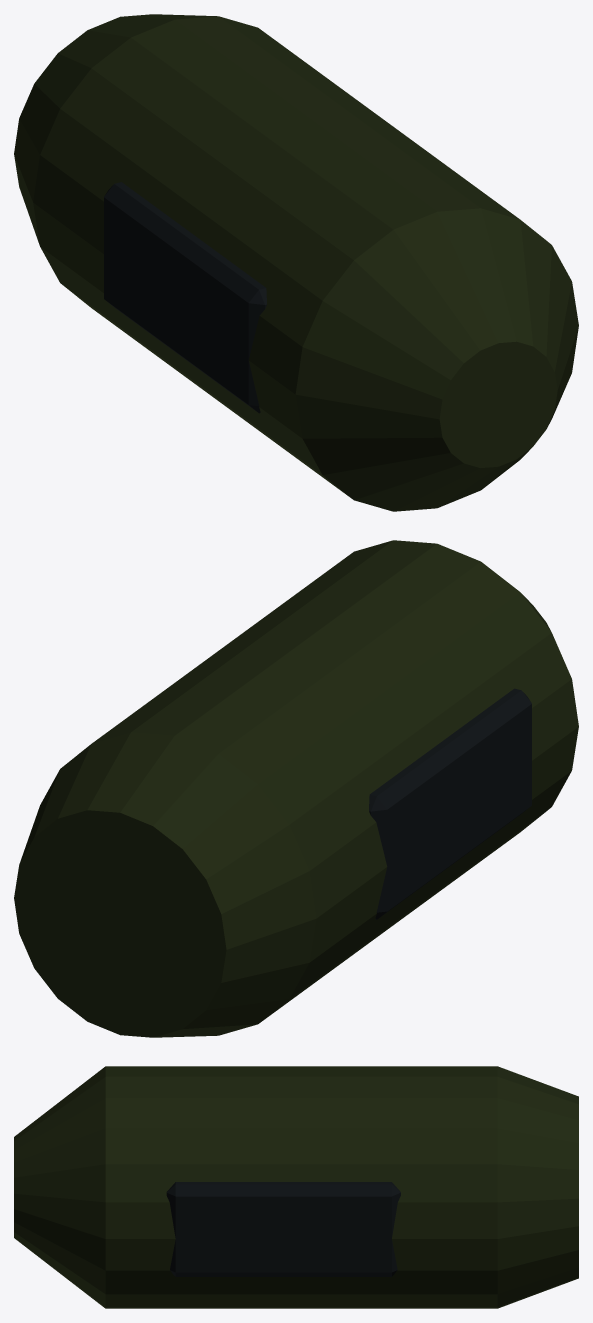
Rendered from Rotary127__PodShell.obj.
3 views of the same model, one above another, from view 1: azimuth 30°, elevation 25°; view 2: azimuth 150°, elevation 25°; view 3: azimuth 270°, elevation 25° (orthographic). The views are drawn at different scales.
Visible parts, largest first — view 1: Pod_shell, Access_blister; view 2: Pod_shell, Access_blister; view 3: Pod_shell, Access_blister.001.
Part boxes in pixels (x1=…): Pod_shell: x1=14, y1=14, x2=578, y2=511; Access_blister: x1=104, y1=182, x2=266, y2=413; Pod_shell: x1=14, y1=540, x2=578, y2=1037; Access_blister: x1=369, y1=688, x2=531, y2=919; Pod_shell: x1=14, y1=1066, x2=578, y2=1308; Access_blister.001: x1=166, y1=1182, x2=400, y2=1276.
Size of the model in its own units: 0.48 by 0.48 by 1.11.
